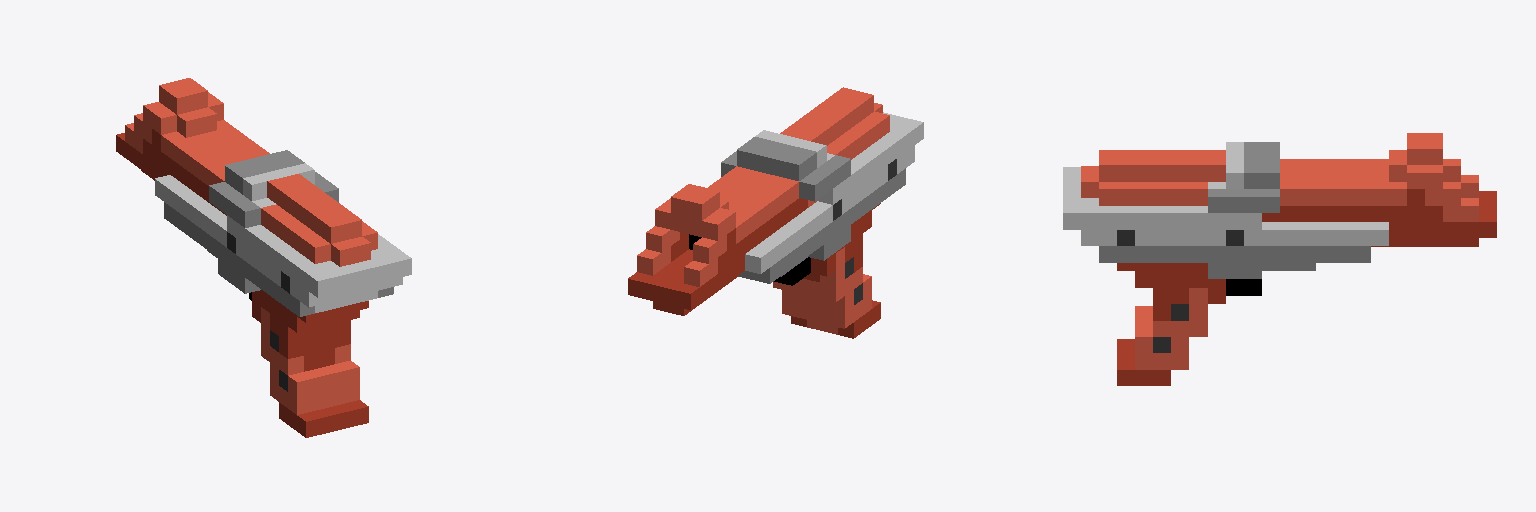
3 renders of one model, left to right at view 1: azimuth 30°, elevation 25°; view 2: azimuth 150°, elevation 25°; view 3: azimuth 270°, elevation 25°, orthographic.
Parts seen in each view (by area): view 1: Patos; view 2: Patos; view 3: Patos.
Part boxes in pixels (bbox=[...]): Patos: bbox=[116, 78, 411, 437]; Patos: bbox=[628, 87, 923, 338]; Patos: bbox=[1063, 133, 1496, 385].
Bounding box in the file's own units: 0.6 × 1.4 × 2.4.
1 materials, 1 textured.